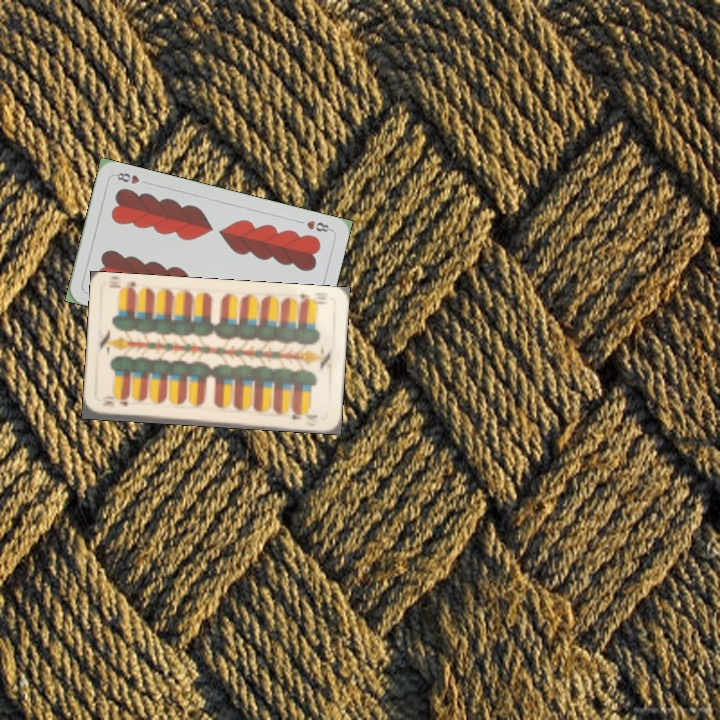E10: (296, 290, 328, 307), (98, 397, 131, 411)
H8: (302, 216, 334, 235)
